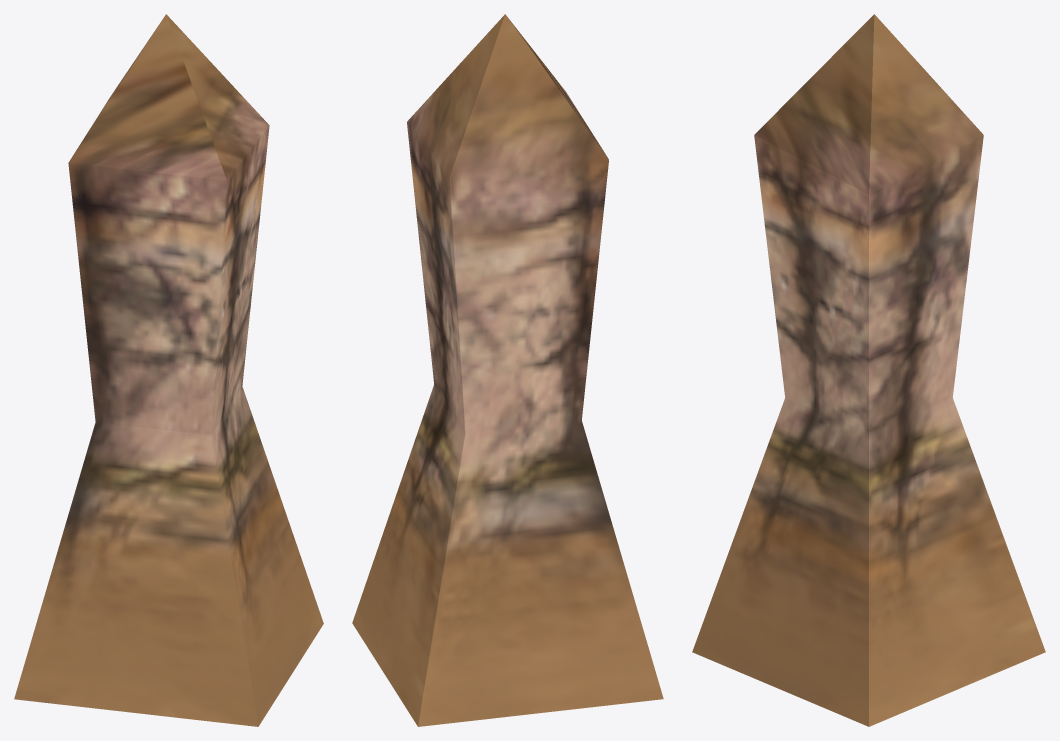
File: landmark08.glb
3 renders of one model, left to right at view 1: azimuth 30°, elevation 25°; view 2: azimuth 150°, elevation 25°; view 3: azimuth 270°, elevation 25°, orthographic.
Parts seen in each view (by area): view 1: landmark08; view 2: landmark08; view 3: landmark08.
Boxes of the visible parts, x1,y1,x2,y2 form: landmark08: (14,14,323,726); landmark08: (352,14,663,726); landmark08: (692,14,1045,726).
Bounding box in the file's own units: 1531 × 3047 × 1531.
1 material, 1 textured.
